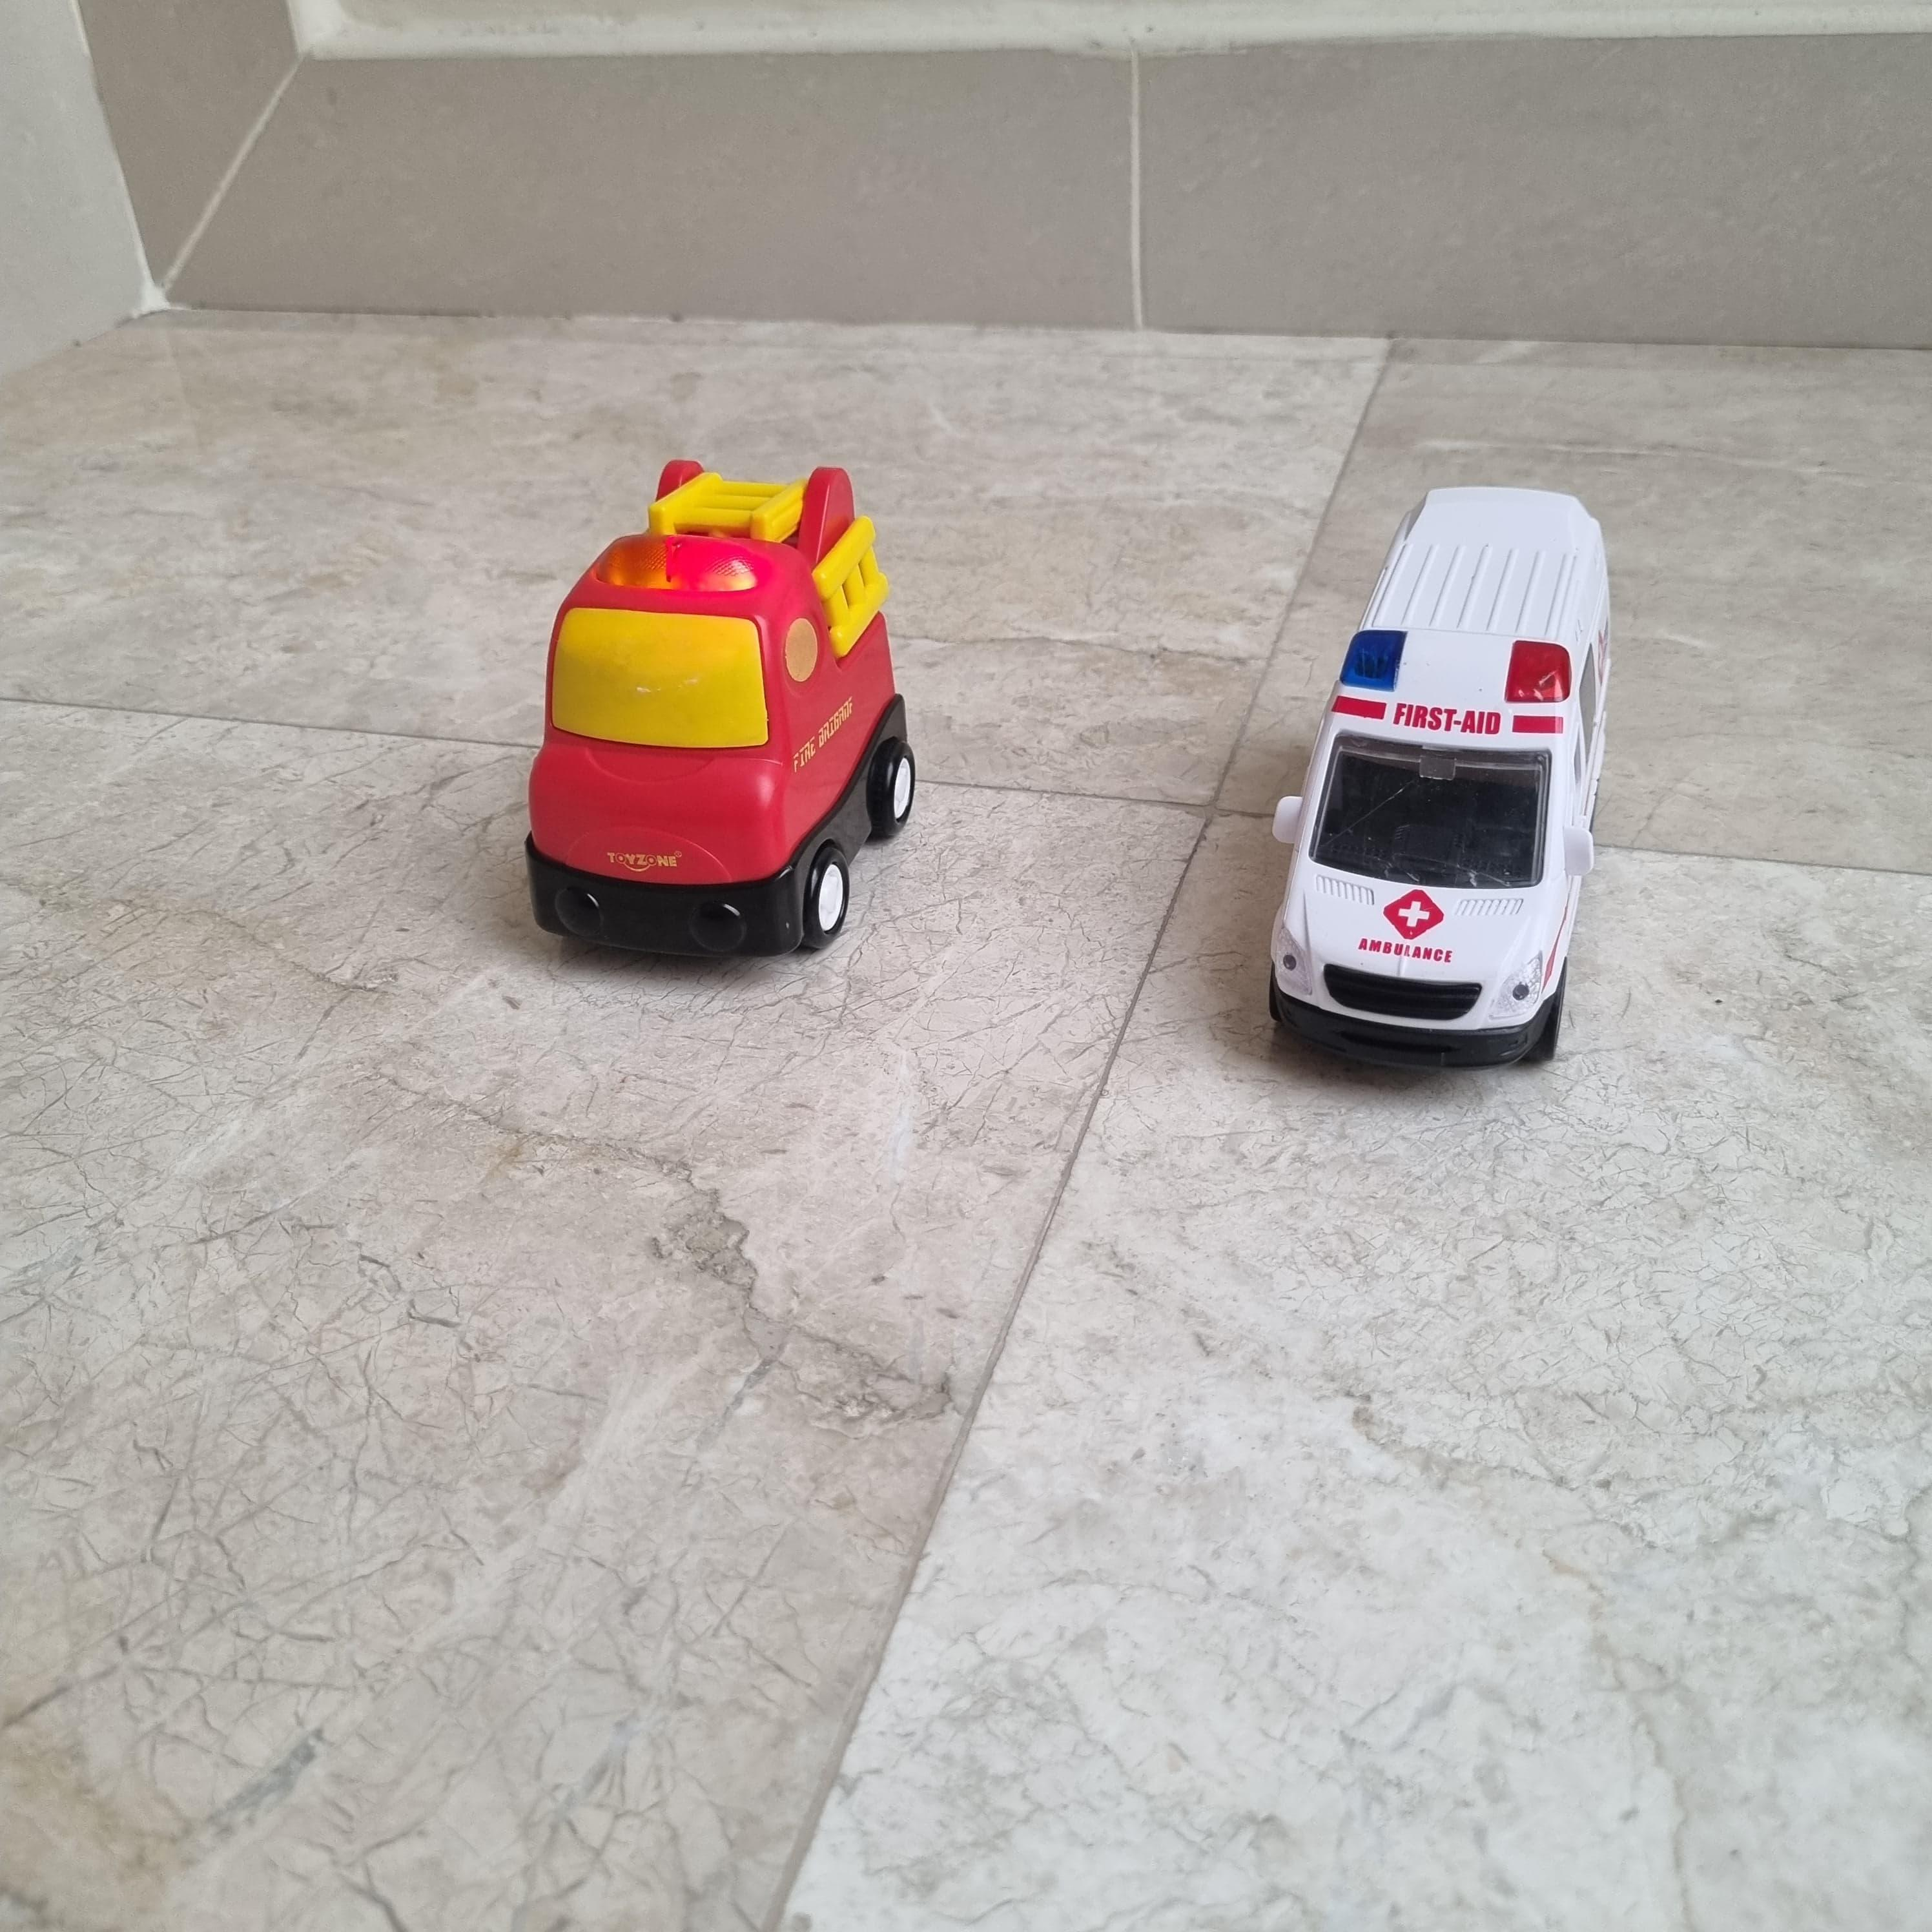ambulance_off: (1267, 487, 1610, 1074)
firetruck_on: (524, 458, 915, 961)
